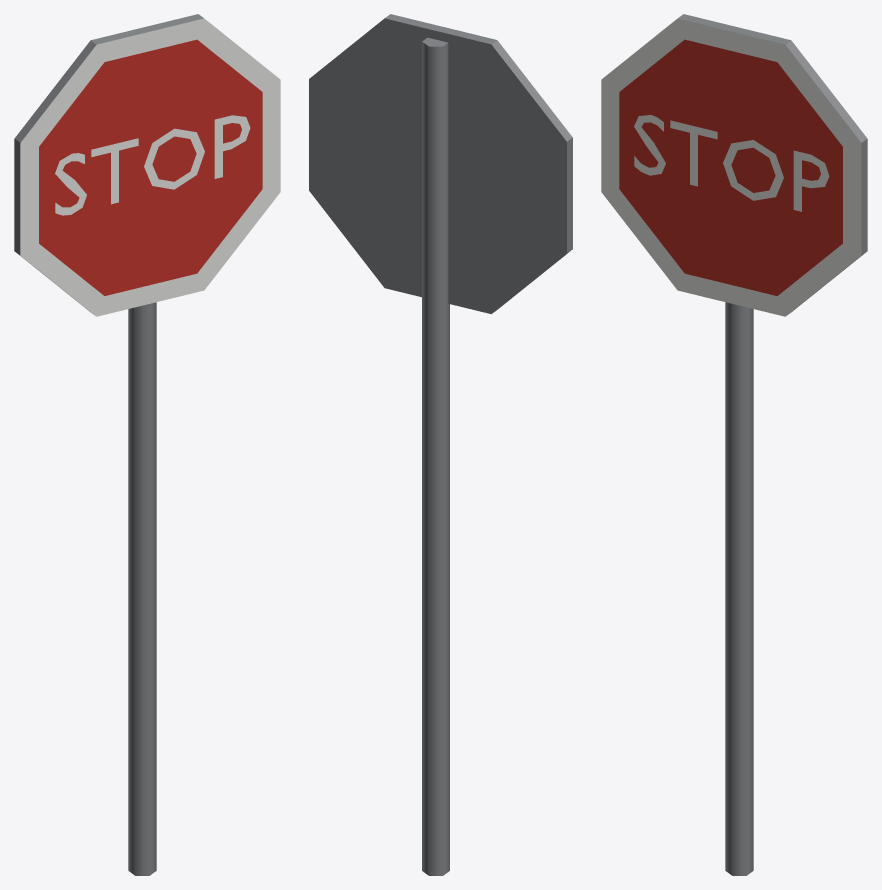
Rendered from prop_stop_sign.glb.
3 views of the same model, side by side, from view 1: azimuth 30°, elevation 25°; view 2: azimuth 150°, elevation 25°; view 3: azimuth 330°, elevation 25° (orthographic).
Parts seen in each view (by area): view 1: prop.stop_sign; view 2: prop.stop_sign; view 3: prop.stop_sign.
Part boxes in pixels (x1,y1,x2,y2): prop.stop_sign: [14, 14, 280, 875]; prop.stop_sign: [309, 14, 572, 875]; prop.stop_sign: [601, 14, 867, 875].
Bounding box in the file's own units: 0.7483 × 2.32 × 0.08.
